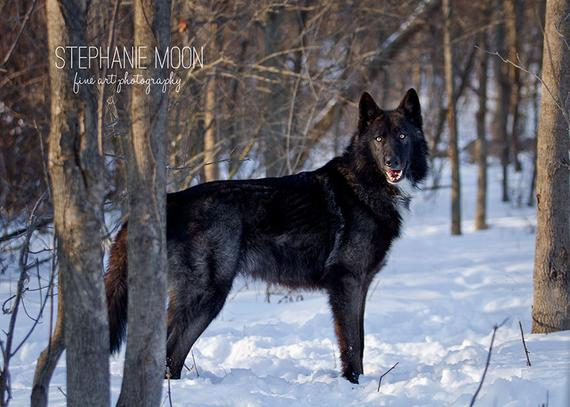Lobo: (143, 79, 445, 374)
